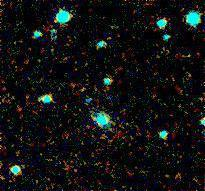star: (71, 75, 101, 105)
